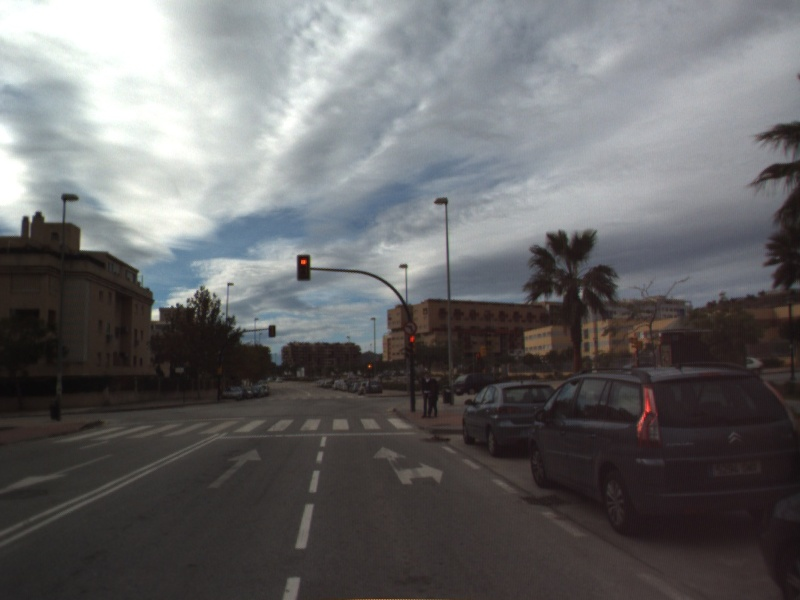STRAIGHT: (206, 446, 264, 490)
STRAIGHT_RIGHT: (370, 444, 445, 487)
